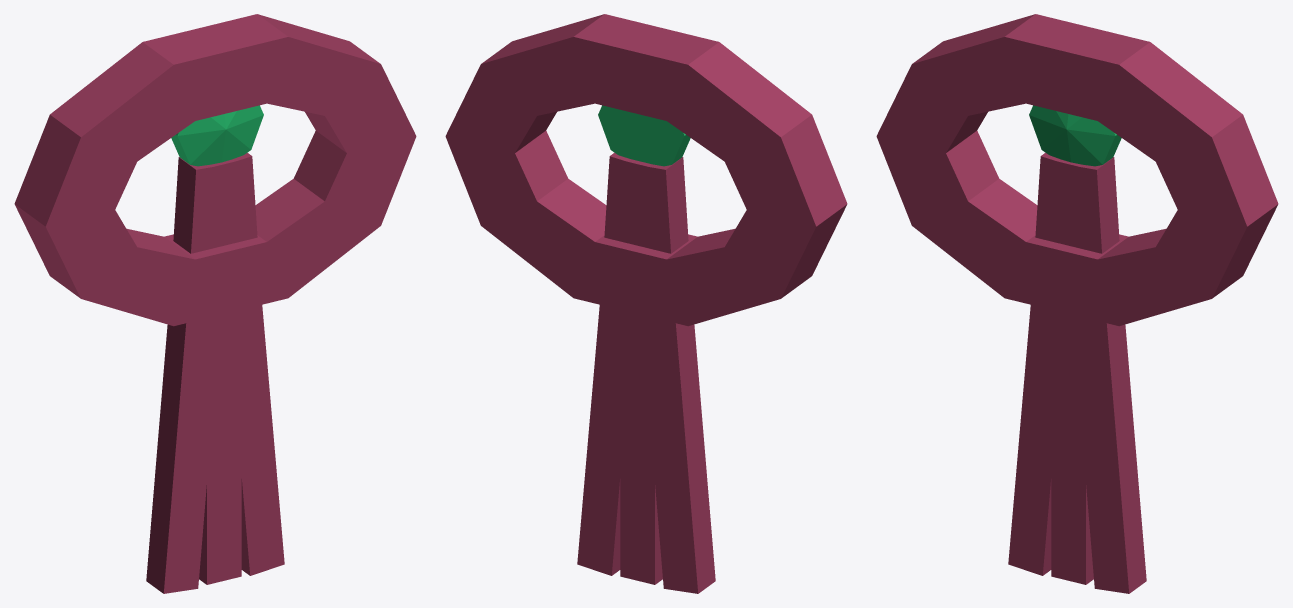
Rendered from red_silk_knot.obj.
3 views of the same model, side by side, from view 1: azimuth 30°, elevation 25°; view 2: azimuth 150°, elevation 25°; view 3: azimuth 330°, elevation 25° (orthographic).
Parts seen in each view (by area): view 1: silk_loop, gourd_silk_strand_00, gourd_silk_strand_02, gourd_silk_strand_01, gourd_silk_strand_00_edge, gourd_silk_knot, gourd_silk_strand_02_edge; view 2: silk_loop, gourd_silk_strand_00, gourd_silk_strand_02, gourd_silk_strand_01, gourd_silk_strand_00_edge, gourd_silk_knot, gourd_silk_strand_02_edge, gourd_silk_strand_01_edge; view 3: silk_loop, gourd_silk_strand_02, gourd_silk_strand_00, gourd_silk_strand_01, gourd_silk_strand_02_edge, gourd_silk_knot, gourd_silk_strand_00_edge.
Boxes of the visible parts, box(x1,y1,x2,y2) form: silk_loop: box(14, 14, 416, 326); gourd_silk_strand_00: box(163, 164, 230, 593); gourd_silk_strand_02: box(225, 156, 284, 575); gourd_silk_strand_01: box(207, 160, 241, 584); gourd_silk_strand_00_edge: box(146, 157, 212, 593); gourd_silk_knot: box(171, 105, 263, 166); gourd_silk_strand_02_edge: box(232, 153, 251, 575); silk_loop: box(445, 14, 847, 326); gourd_silk_strand_00: box(631, 164, 698, 593); gourd_silk_strand_02: box(577, 156, 636, 575); gourd_silk_strand_01: box(620, 160, 654, 584); gourd_silk_strand_00_edge: box(649, 157, 715, 593); gourd_silk_knot: box(598, 105, 690, 166); gourd_silk_strand_02_edge: box(610, 153, 629, 575); gourd_silk_strand_01_edge: box(627, 159, 662, 584); silk_loop: box(876, 14, 1278, 326); gourd_silk_strand_02: box(1062, 164, 1129, 593); gourd_silk_strand_00: box(1008, 156, 1074, 575); gourd_silk_strand_01: box(1051, 162, 1085, 584); gourd_silk_strand_02_edge: box(1080, 157, 1146, 593); gourd_silk_knot: box(1029, 105, 1121, 166); gourd_silk_strand_00_edge: box(1041, 153, 1060, 575).
Bounding box in the file's own units: 0.48 × 0.6637 × 0.07.
